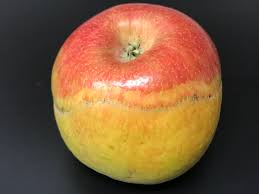damaged_apple: (52, 9, 223, 182)
